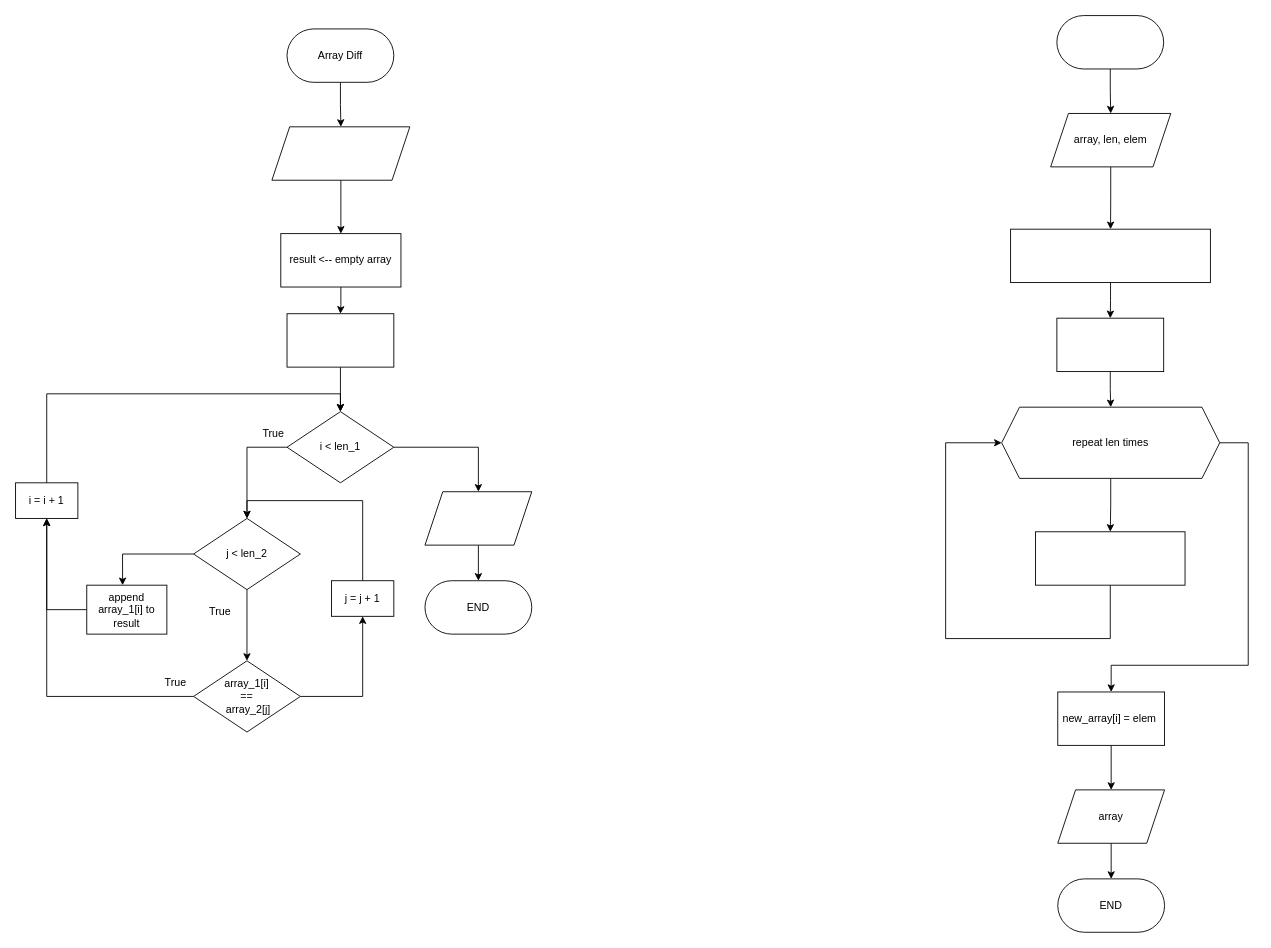
The diagram is 1271 pixels wide and 948 high, and some of its shapes have lost their labels. Each missing label, with the centre of its shape:
"Append elem to array" goes at (1110,42).
"i = 0" goes at (1110,344).
"i = 0, j = 0" goes at (340,340).
"len_1, array_1 len_2, array_2" goes at (340,153).
"new_array with length (len + 1)" goes at (1110,255).
"new_array[i] = array[i] i = i + 1" goes at (1110,558).
"result" goes at (478,518).
